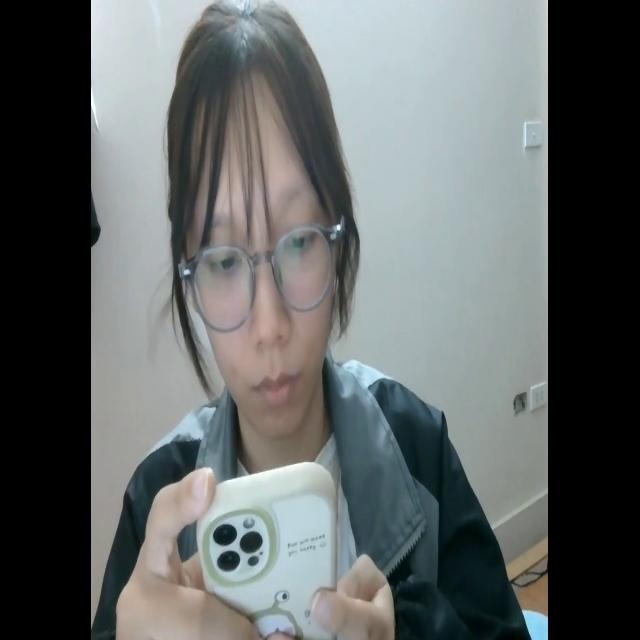phone: (191, 449, 344, 640)
student: (94, 0, 533, 640)
